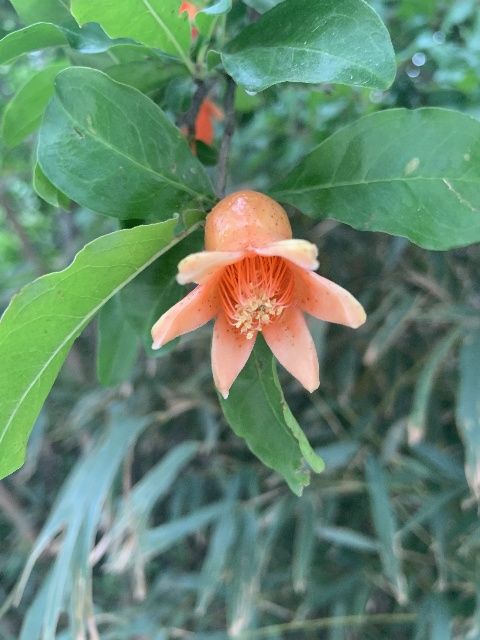early-fruit: (150, 190, 366, 399)
